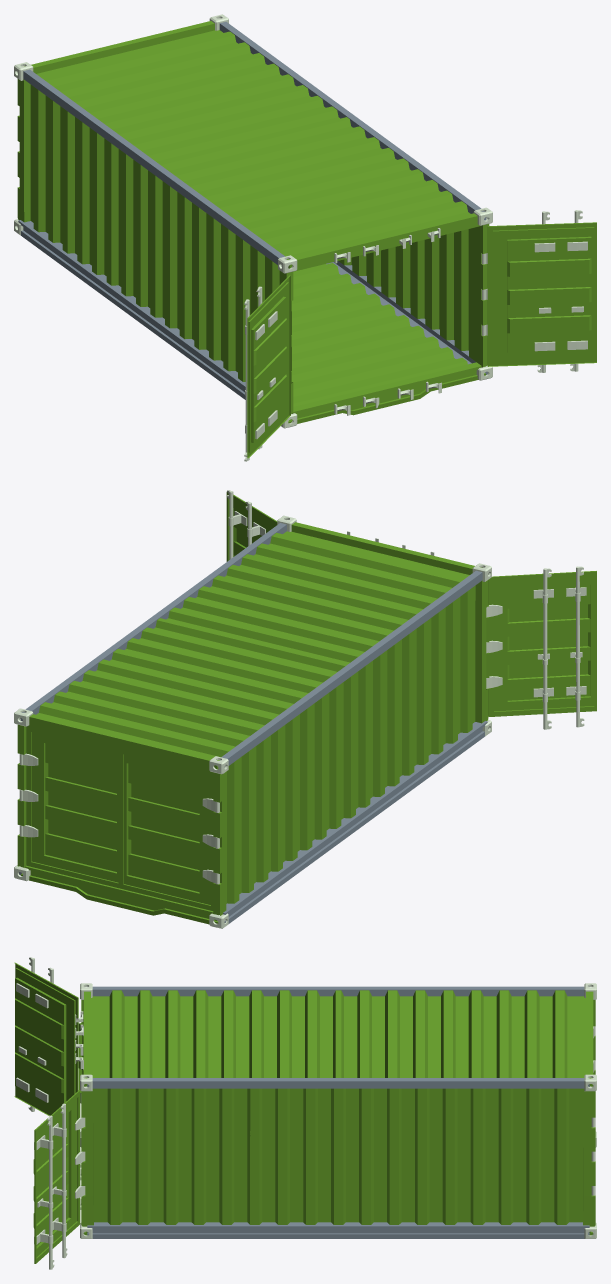
File: greenShippingContainer[broken].fbx
3 views of the same model, one above another, from view 1: azimuth 30°, elevation 25°; view 2: azimuth 150°, elevation 25°; view 3: azimuth 270°, elevation 25° (orthographic). The views are drawn at different scales.
Visible parts, largest first — view 1: Green[broken], GreenDoor[broken].R, GreenDoor[broken].L; view 2: Green[broken], GreenDoor[broken].L, GreenDoor[broken].R; view 3: Green[broken], GreenDoor[broken].L, GreenDoor[broken].R.
Part boxes in pixels (x1,y1,x2,y2): Green[broken]: (14, 14, 492, 428); GreenDoor[broken].R: (481, 210, 596, 372); GreenDoor[broken].L: (244, 275, 291, 461); Green[broken]: (14, 515, 491, 928); GreenDoor[broken].L: (486, 566, 596, 729); GreenDoor[broken].R: (226, 490, 277, 561); Green[broken]: (75, 983, 596, 1238); GreenDoor[broken].L: (14, 957, 83, 1115); GreenDoor[broken].R: (33, 1090, 85, 1269).
Size of the model in its own units: 475 by 697 by 216.
